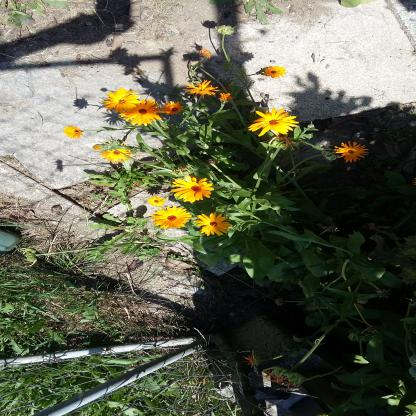marigold: (107, 116, 137, 170), (177, 201, 203, 246), (100, 250, 126, 294), (206, 224, 230, 265), (212, 182, 236, 222), (89, 275, 113, 315), (141, 46, 163, 80), (80, 197, 98, 229), (145, 286, 162, 316), (65, 128, 78, 152), (101, 230, 115, 252), (126, 331, 139, 353), (196, 250, 206, 269)
